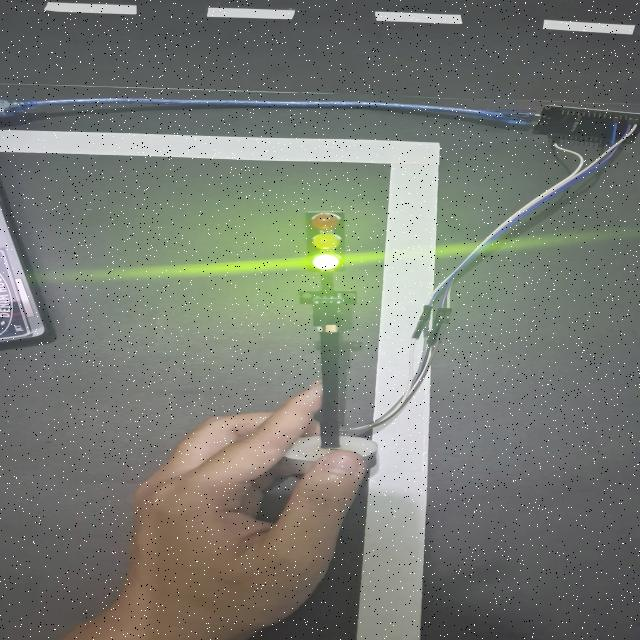Lampu Hijau: (304, 210, 349, 276)
